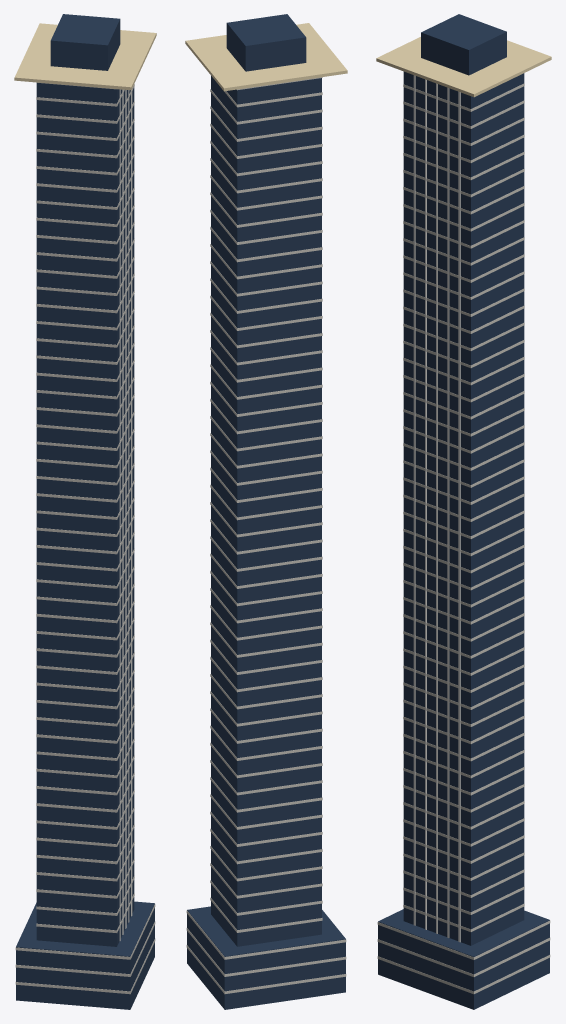
The model's file is manazel-al-safa-tower.glb.
3 views of the same model, side by side, from view 1: azimuth 30°, elevation 25°; view 2: azimuth 150°, elevation 25°; view 3: azimuth 270°, elevation 25° (orthographic).
Parts seen in each view (by area): view 1: B_532853133_manazel-al-safa-tower, B_532853133_manazel-al-safa-tower_gold, mullion.031, mullion.032, mullion.033, mullion.034, mullion.030, band.514, band.516, band.515, band.542, band.556 (+46 smaller); view 2: B_532853133_manazel-al-safa-tower, B_532853133_manazel-al-safa-tower_gold, band.516, band.515, band.514, band.519, band.524, band.529, band.534, band.544, band.549, band.554 (+41 smaller); view 3: B_532853133_manazel-al-safa-tower, B_532853133_manazel-al-safa-tower_gold, mullion.034, mullion.030, mullion.033, mullion.031, mullion.032, band.514, band.516, band.515.
Part boxes in pixels (x1,y1,x2,y2): B_532853133_manazel-al-safa-tower: [16, 14, 154, 1009]; B_532853133_manazel-al-safa-tower_gold: [14, 23, 156, 90]; mullion.031: [122, 89, 123, 934]; mullion.032: [125, 90, 126, 928]; mullion.033: [128, 90, 129, 922]; mullion.034: [131, 88, 132, 916]; mullion.030: [119, 89, 120, 940]; band.514: [15, 938, 155, 994]; band.516: [15, 904, 155, 959]; band.515: [15, 921, 155, 976]; band.542: [36, 462, 134, 502]; band.556: [36, 221, 134, 261]; B_532853133_manazel-al-safa-tower: [187, 14, 345, 1009]; B_532853133_manazel-al-safa-tower_gold: [185, 23, 347, 91]; band.516: [186, 910, 346, 959]; band.515: [186, 928, 346, 976]; band.514: [186, 945, 346, 994]; band.519: [210, 863, 322, 898]; band.524: [210, 777, 322, 812]; band.529: [210, 691, 322, 726]; band.534: [210, 605, 322, 640]; band.544: [210, 433, 322, 468]; band.549: [210, 347, 322, 382]; band.554: [210, 261, 322, 296]; B_532853133_manazel-al-safa-tower: [378, 14, 549, 1009]; B_532853133_manazel-al-safa-tower_gold: [376, 37, 551, 97]; mullion.034: [458, 91, 460, 942]; mullion.030: [413, 75, 415, 925]; mullion.033: [447, 87, 449, 937]; mullion.031: [425, 79, 426, 929]; mullion.032: [436, 83, 437, 933]; band.514: [377, 955, 550, 994]; band.516: [377, 920, 550, 959]; band.515: [377, 937, 550, 976].
Bounding box in the file's own units: 41.62 × 248 × 41.89.
